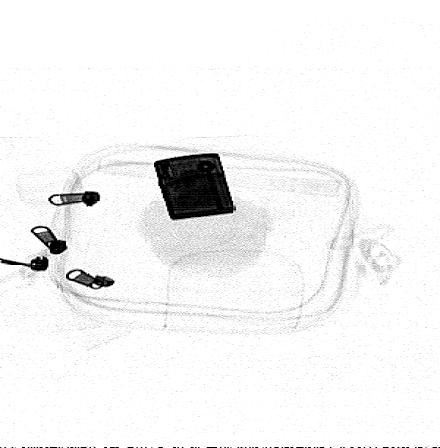Lighter: (153, 153, 238, 221)
